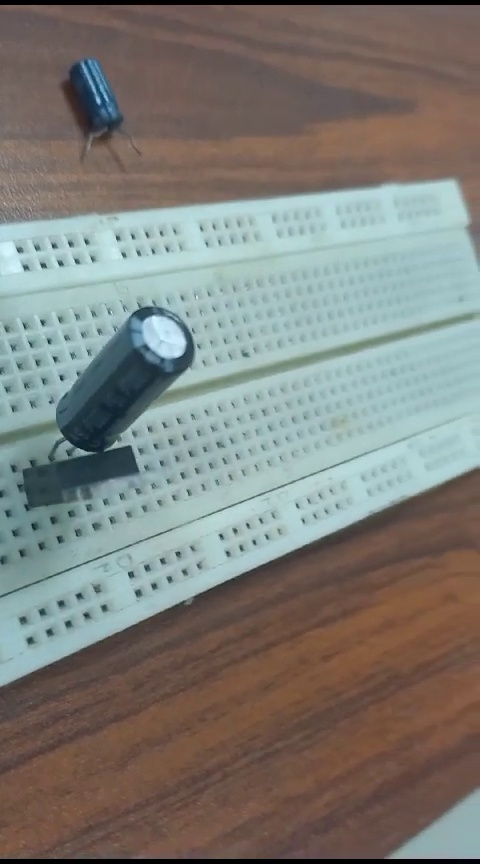capacitor: (43, 276, 191, 443), (48, 52, 139, 169)
voltage regulator: (19, 456, 160, 511)
